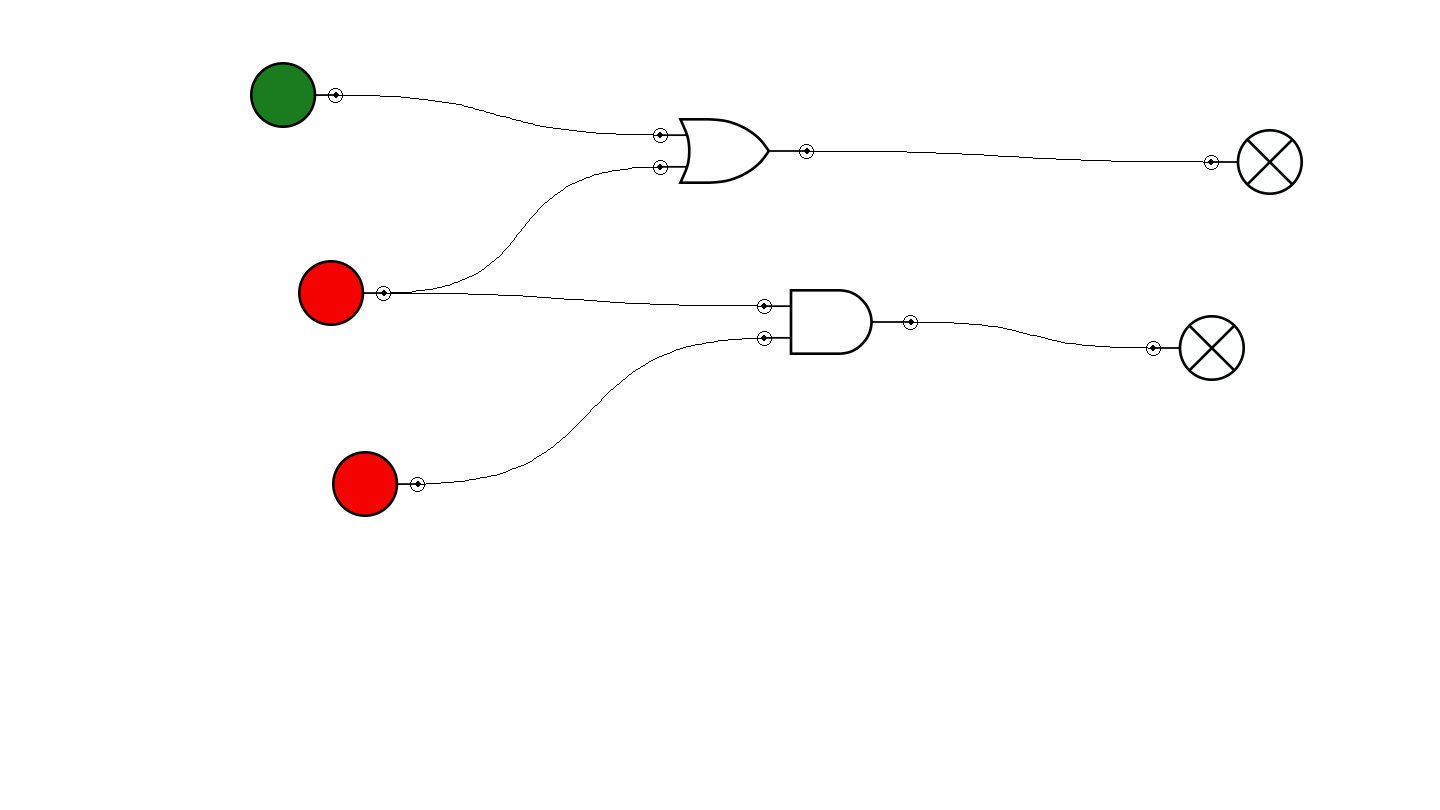and: (757, 289, 918, 355)
bulb: (1146, 315, 1245, 381), (1204, 129, 1303, 195)
or: (653, 118, 814, 184)
switch_False: (332, 451, 425, 517), (298, 260, 391, 326)
switch_True: (250, 62, 343, 128)
